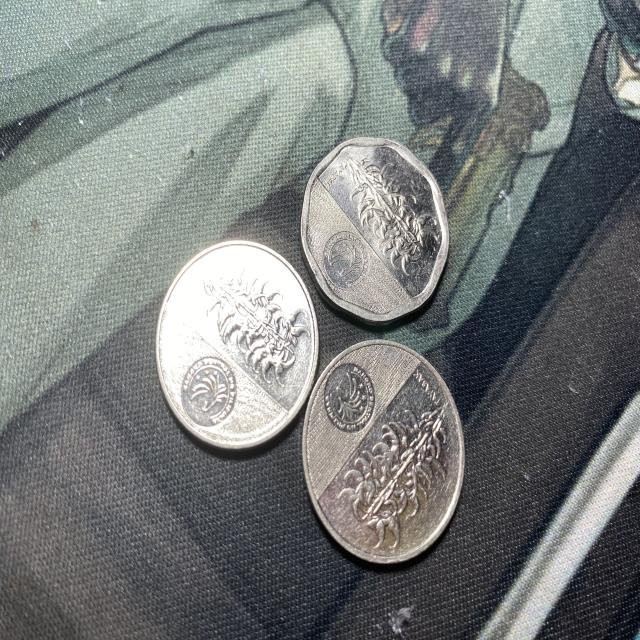5_New_Back: (325, 400, 451, 538), (202, 248, 304, 405), (340, 152, 433, 282)
